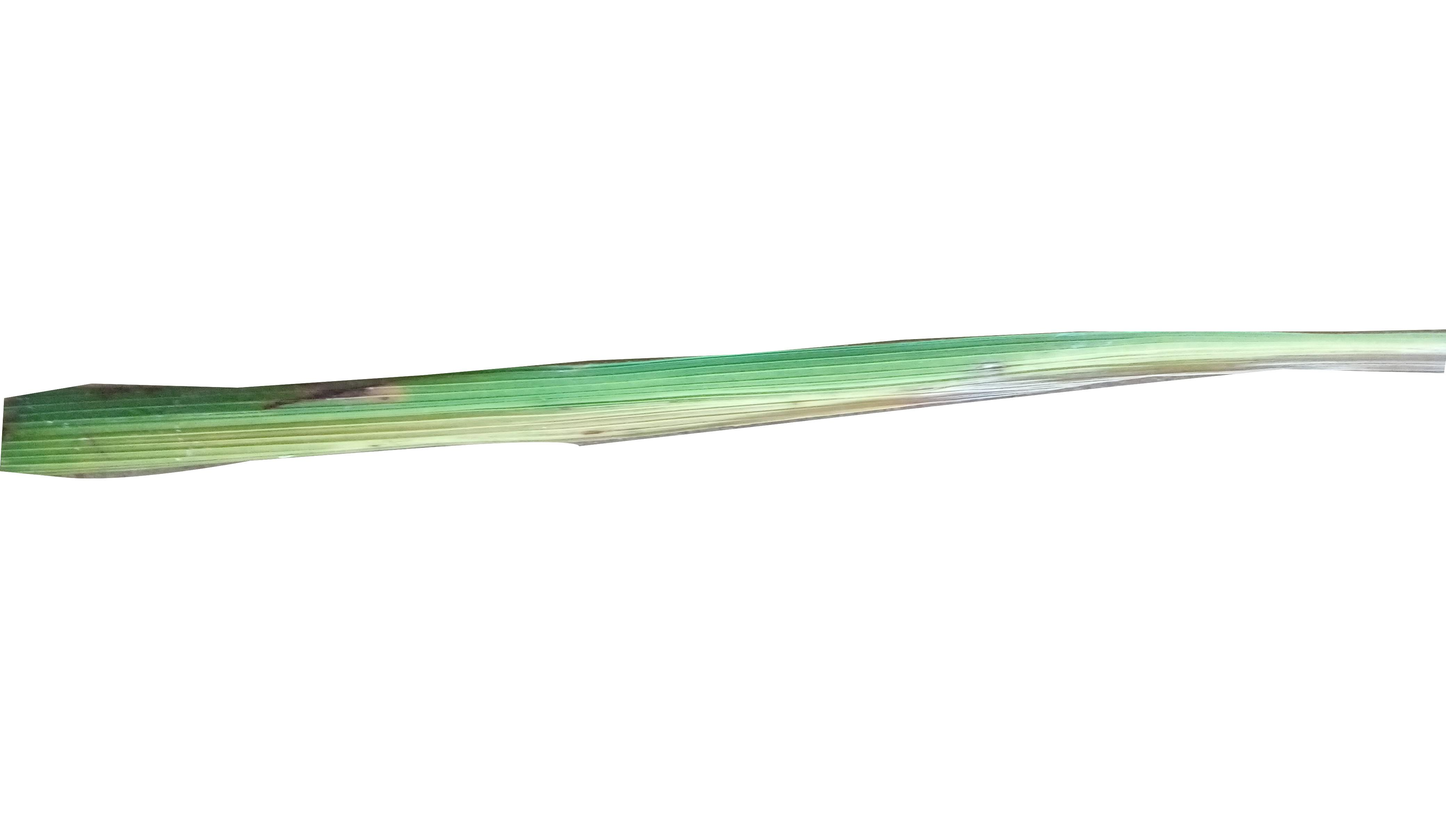Rice blast: (257, 380, 447, 413)
